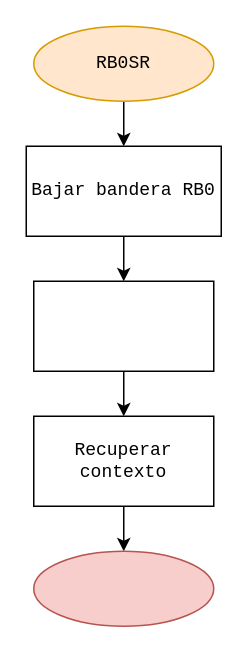
Some shapes in this 248 by 653 pixel diagram are drawn without their labels. Here are the shapes that lost their labels. From the top down, the centre of each, then its label:
At point (123, 325): "Iniciar la conversión".
At point (123, 588): "RETFIE".
